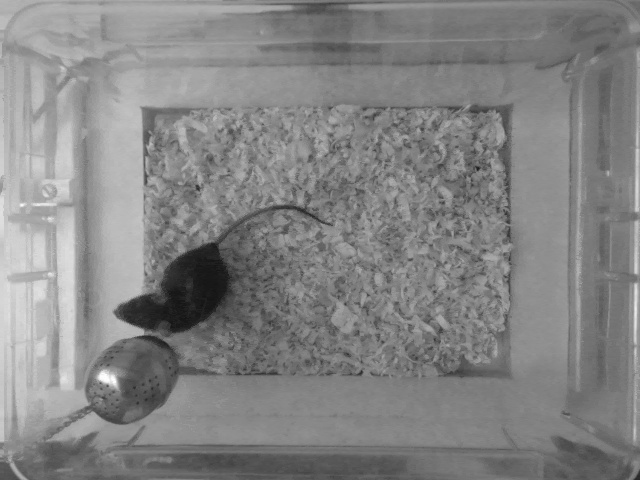mice: (113, 202, 335, 336)
